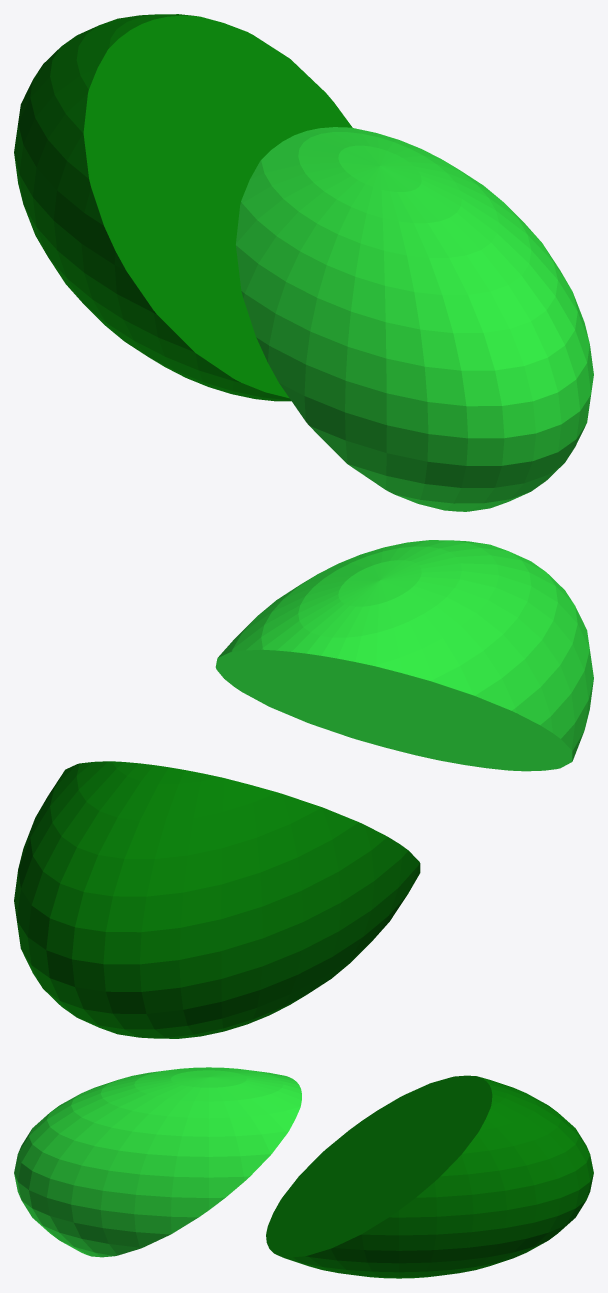
Rendered from myMelonParted.fbx.
3 renders of one model, top to bottom at view 1: azimuth 30°, elevation 25°; view 2: azimuth 150°, elevation 25°; view 3: azimuth 270°, elevation 25°, orthographic. The views are drawn at different scales.
Visible parts, largest first — view 1: Sphere.001, Sphere; view 2: Sphere, Sphere.001; view 3: Sphere, Sphere.001.
Part boxes in pixels (box(x1,y1,x2,y2)): Sphere.001: box(236, 127, 593, 511); Sphere: box(14, 14, 352, 401); Sphere: box(14, 761, 420, 1038); Sphere.001: box(215, 540, 593, 771); Sphere: box(266, 1075, 593, 1278); Sphere.001: box(14, 1067, 301, 1257).
Size of the model in its own units: 152 by 152 by 417.
